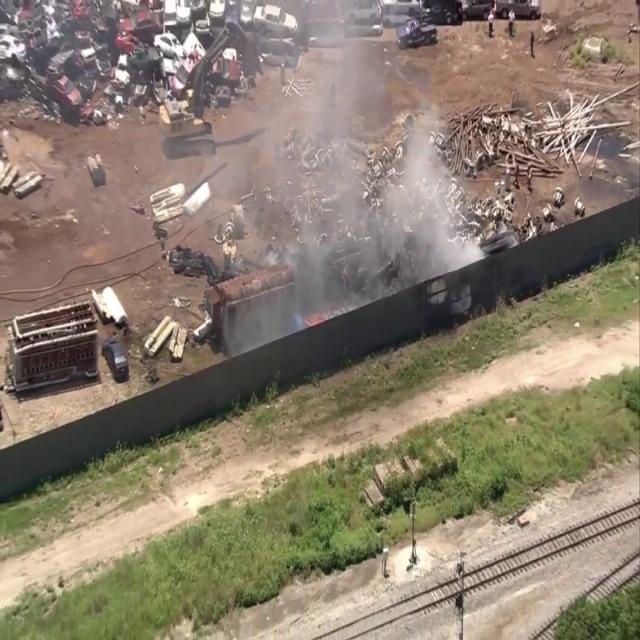Smoke: (228, 8, 468, 318)
